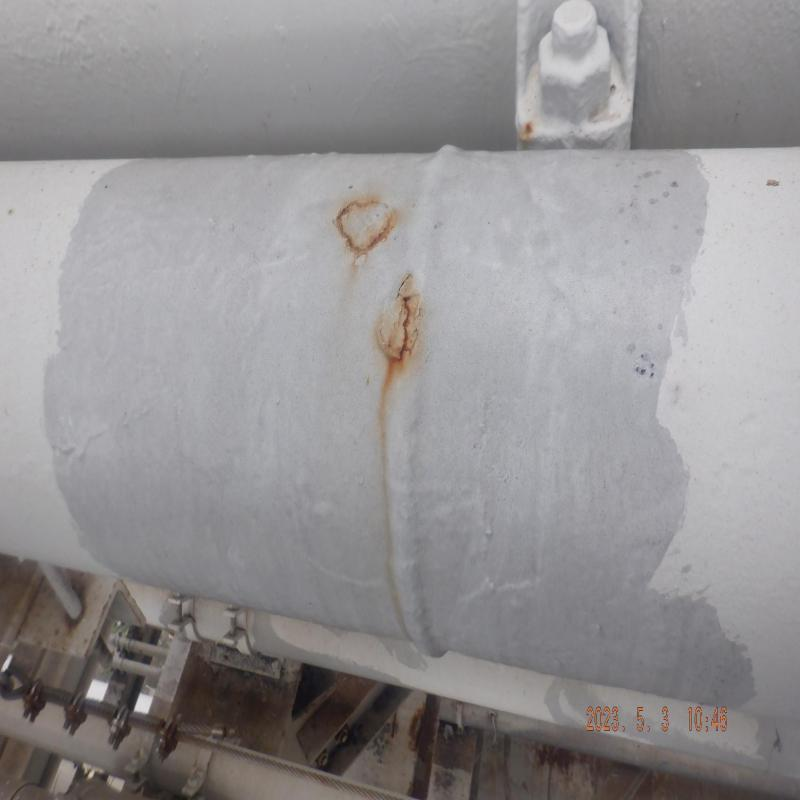corrosion: (391, 287, 415, 354), (338, 216, 382, 250)
